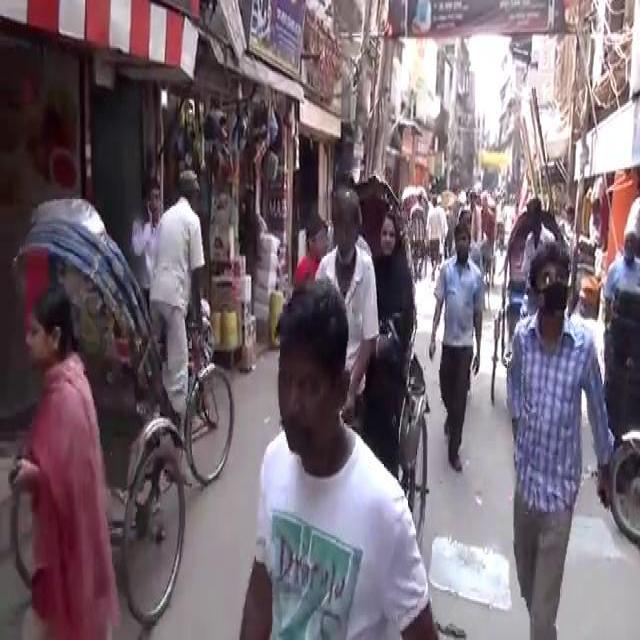rickshaw: (7, 191, 237, 634), (320, 171, 432, 561), (488, 194, 570, 420), (459, 184, 495, 303), (399, 180, 431, 278)
